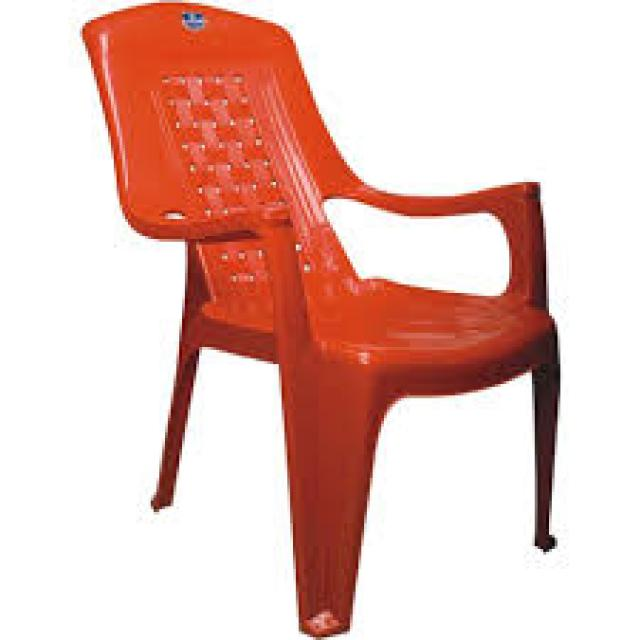chair: (82, 3, 557, 640)
